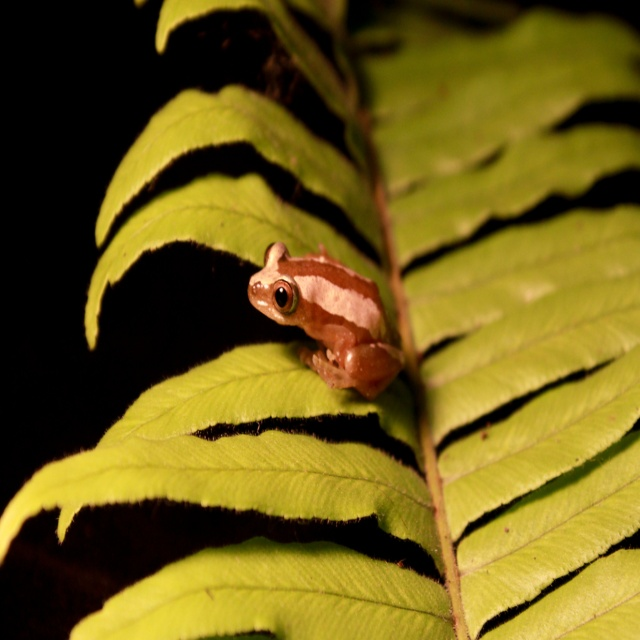Frog: (246, 239, 408, 399)
